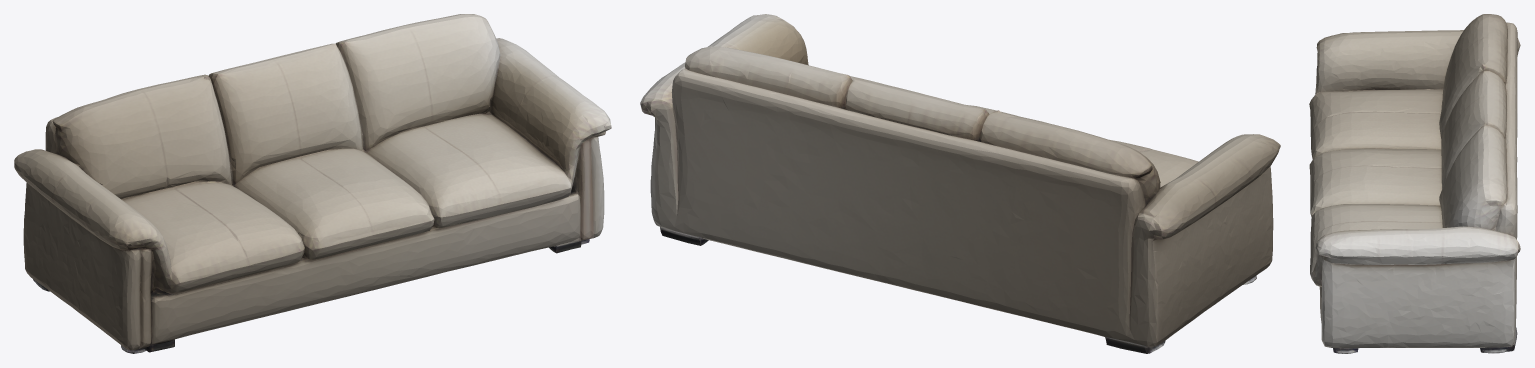
3 views of the same model, side by side, from view 1: azimuth 30°, elevation 25°; view 2: azimuth 150°, elevation 25°; view 3: azimuth 270°, elevation 25° (orthographic). The views are drawn at different scales.
Parts seen in each view (by area): view 1: world; view 2: world; view 3: world.
Boxes of the visible parts, x1,y1,x2,y2 form: world: (14, 14, 611, 353); world: (640, 14, 1280, 353); world: (1309, 14, 1520, 353).
Bounding box in the file's own units: 0.9985 × 0.3394 × 0.4109.
1 material, 1 textured.
